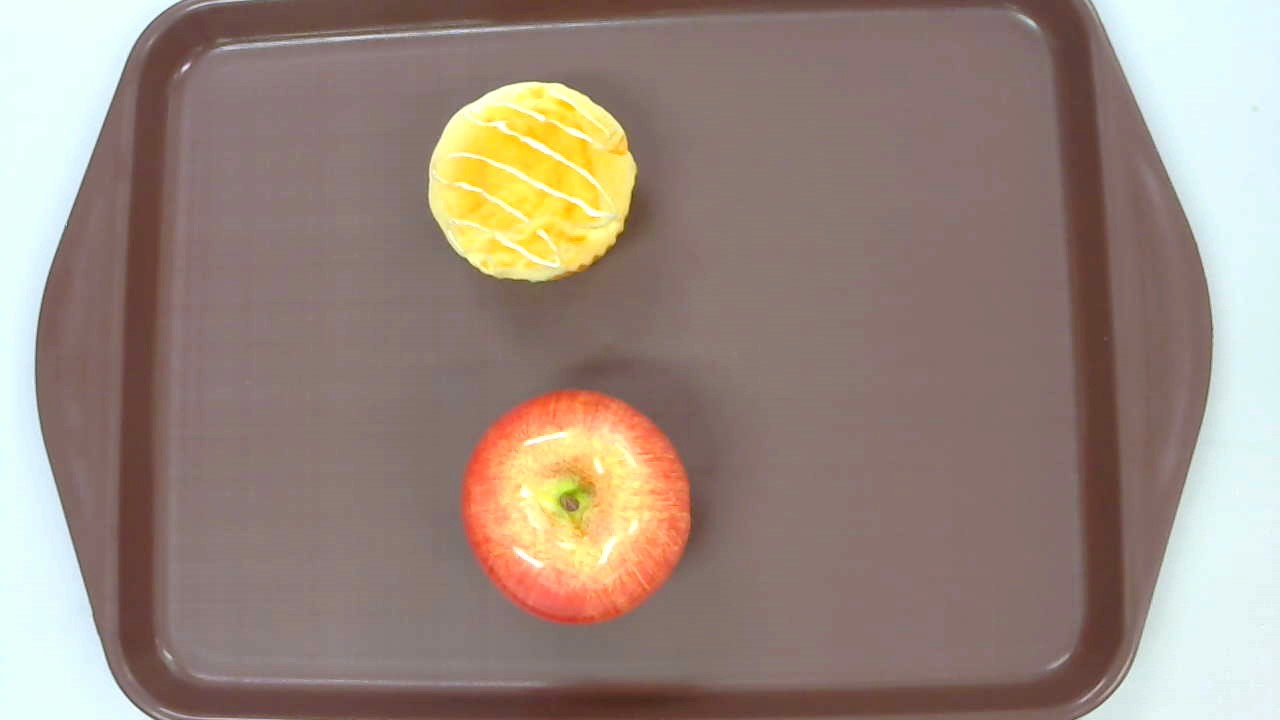cupcake: (426, 80, 637, 283)
red apple: (459, 389, 690, 629)
